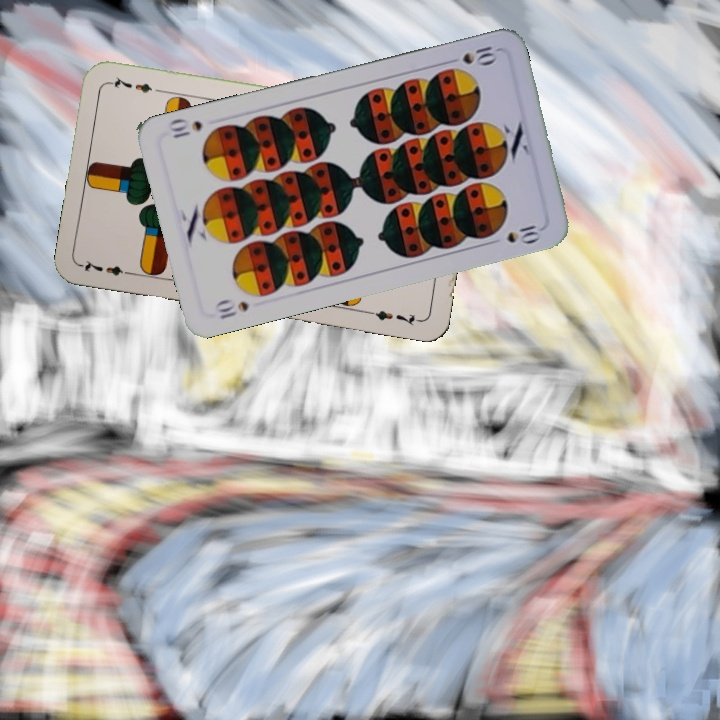E7: (78, 257, 137, 278)
S10: (211, 296, 252, 322), (458, 42, 500, 67)
